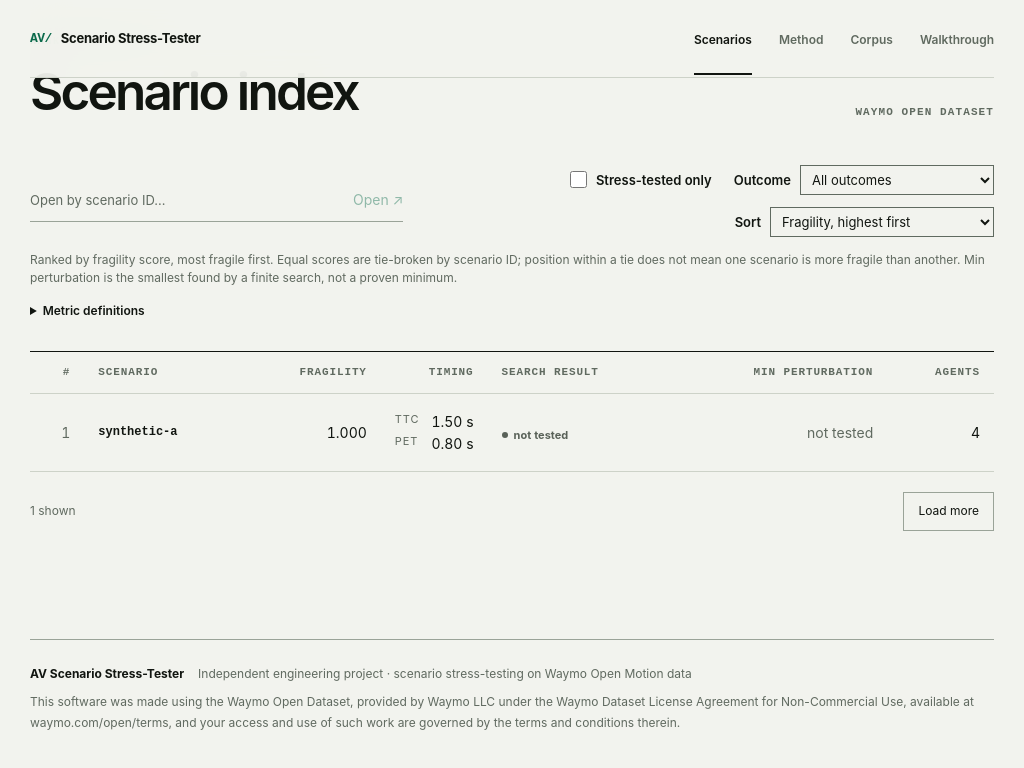
Test: ScenarioListPage — pagination › passes next_cursor back verbatim and appends the next page
This screenshot has width=1024, height=768.
(page scrolled)
Expected: the link "synthetic-a" is shown, [98,425,178,439]
Click the button "Load more" at (949, 512), box [903,492,994,531]
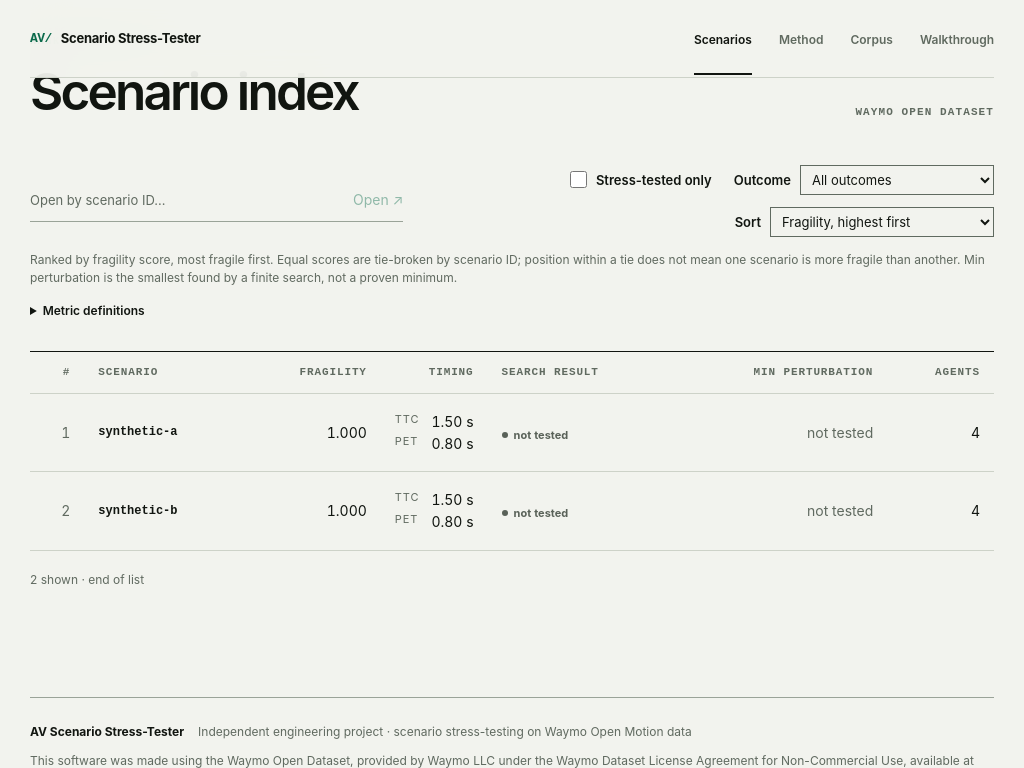
Result: the link "synthetic-b" is shown at [98,504,178,518]
Result: the text "2 shown · end of list" is shown at [30,571,144,589]
Result: the button "Load more" is gone
